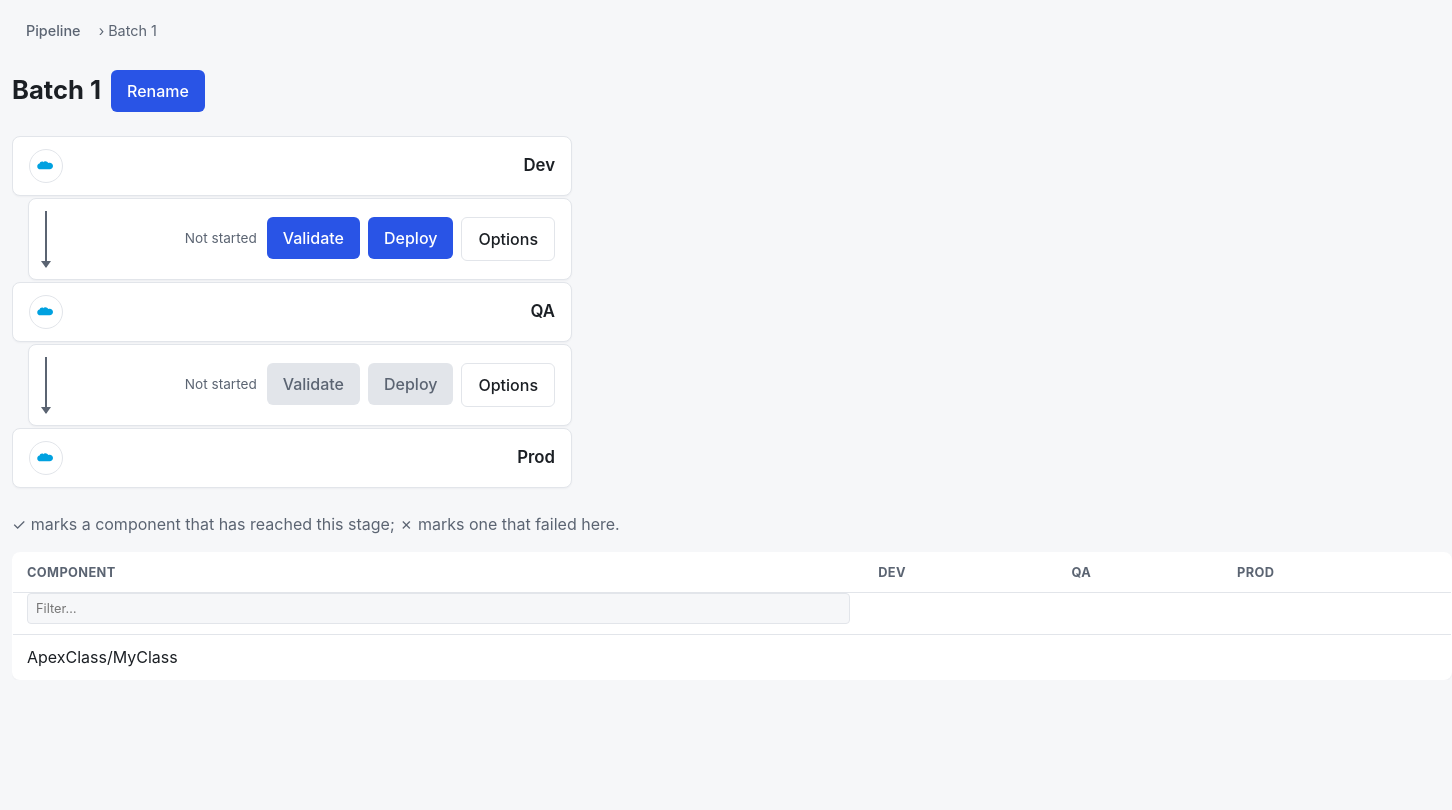
Test: PipelineRunDetail page › editable run title › discards the draft on Cancel without saving
Expected: the heading "Batch 1" is shown, [12,71,101,110]
Click the button "Rename" at (158, 91), box [111,70,205,112]
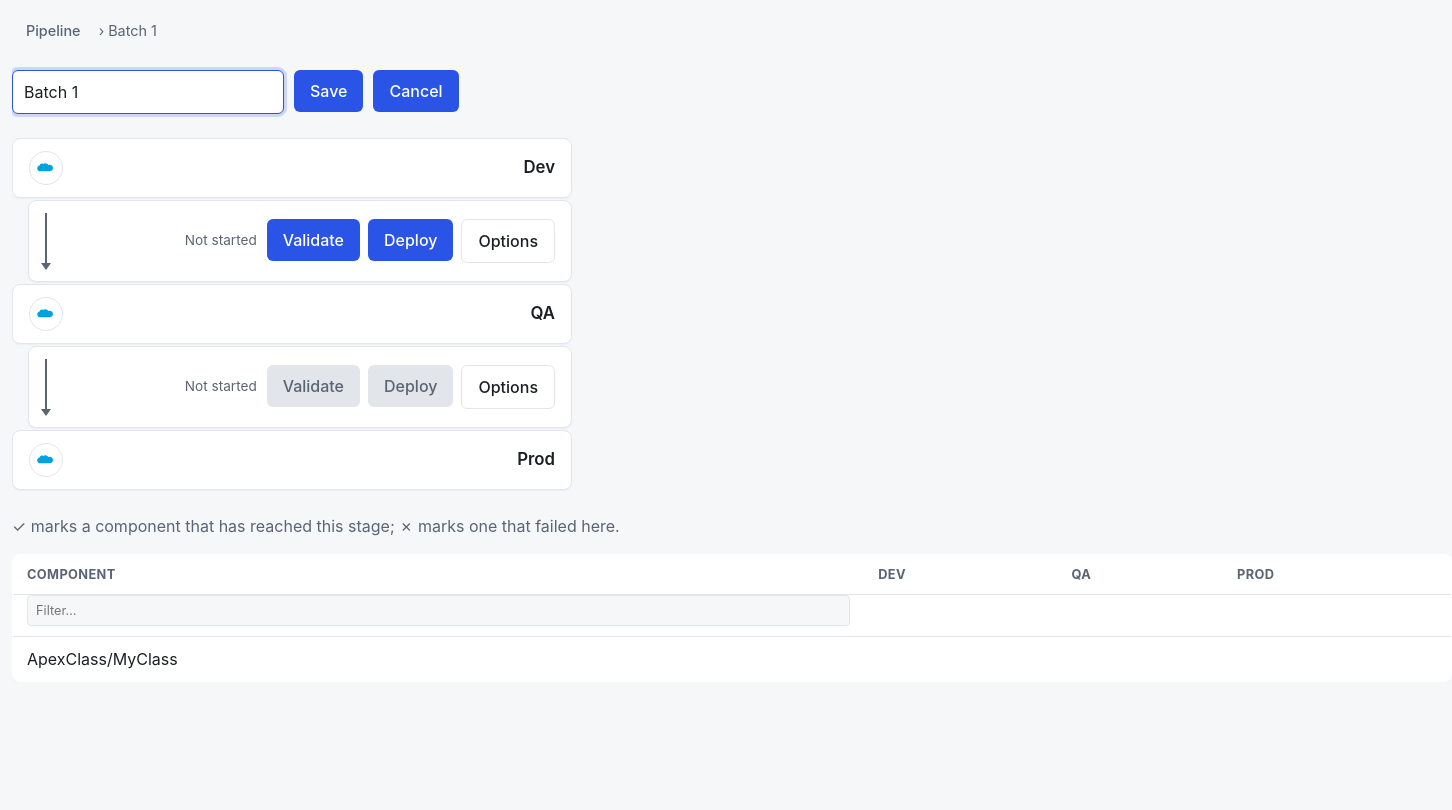
Replace the text in the field named "run title" with "Should not save" at (148, 92), box [12,70,284,114]
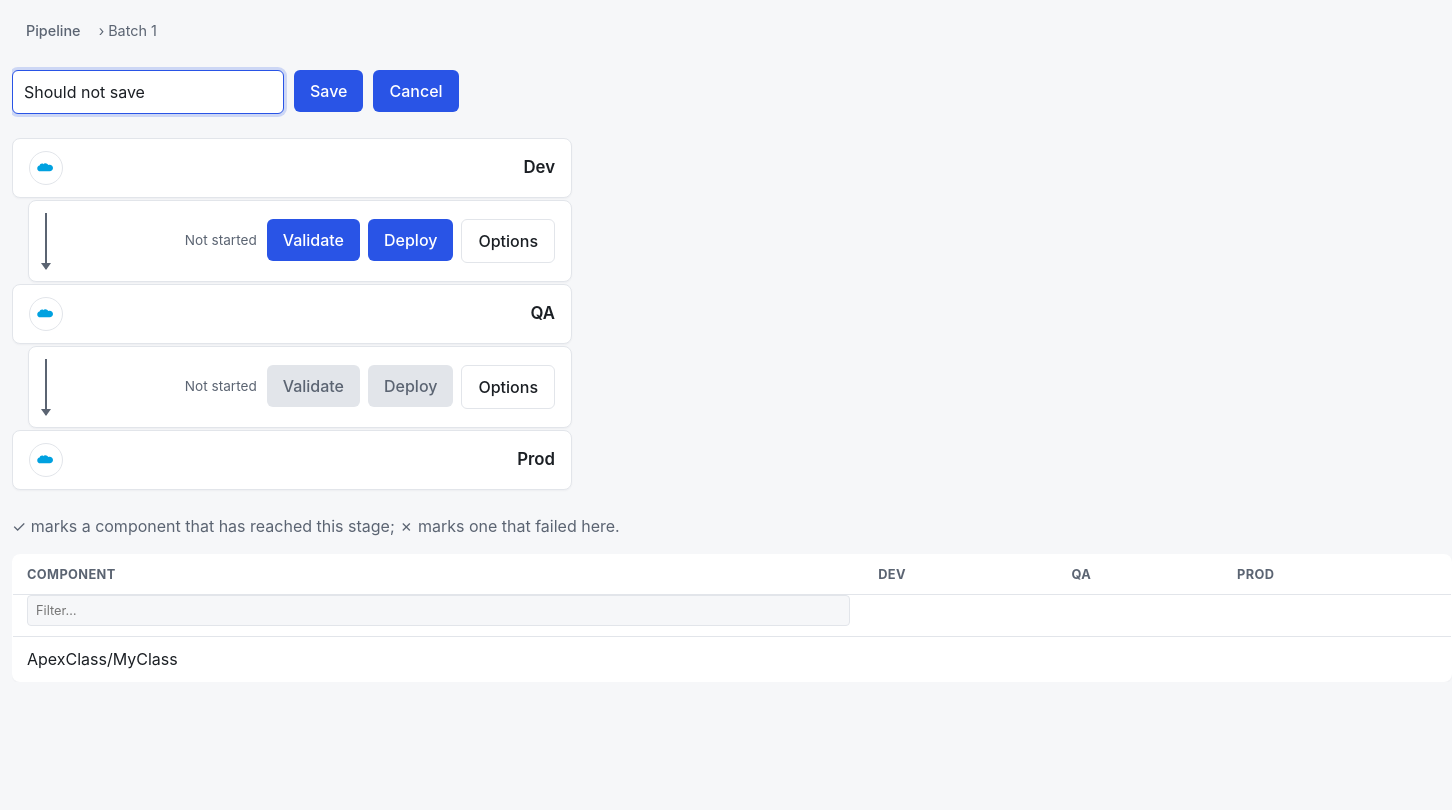
Click the button "Cancel" at (416, 91), box [374,70,459,112]
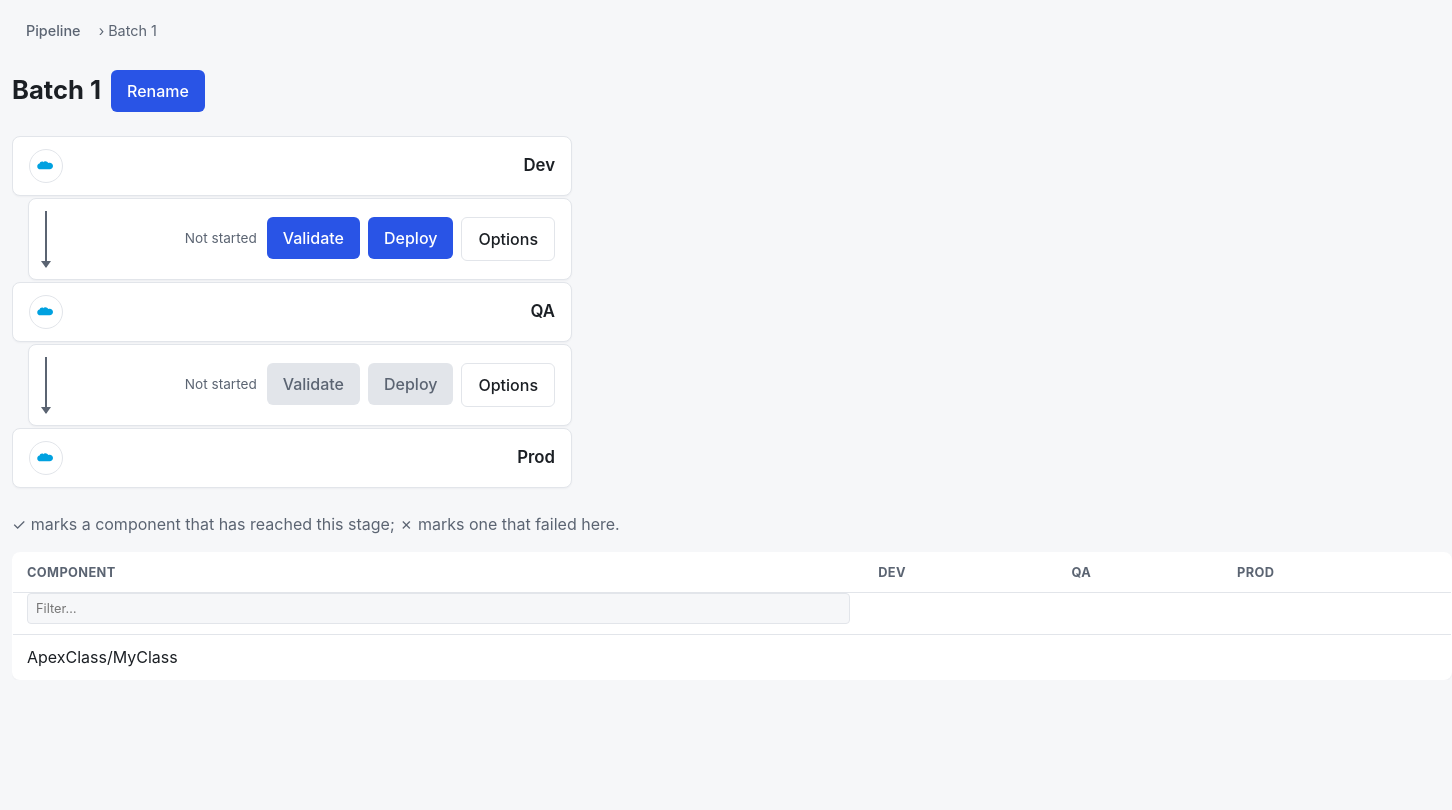
Now the heading "Batch 1" is shown, box [12,71,101,110]
